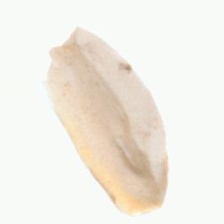L1: (44, 24, 84, 61), (113, 188, 165, 216)
L2: (47, 26, 170, 214)
